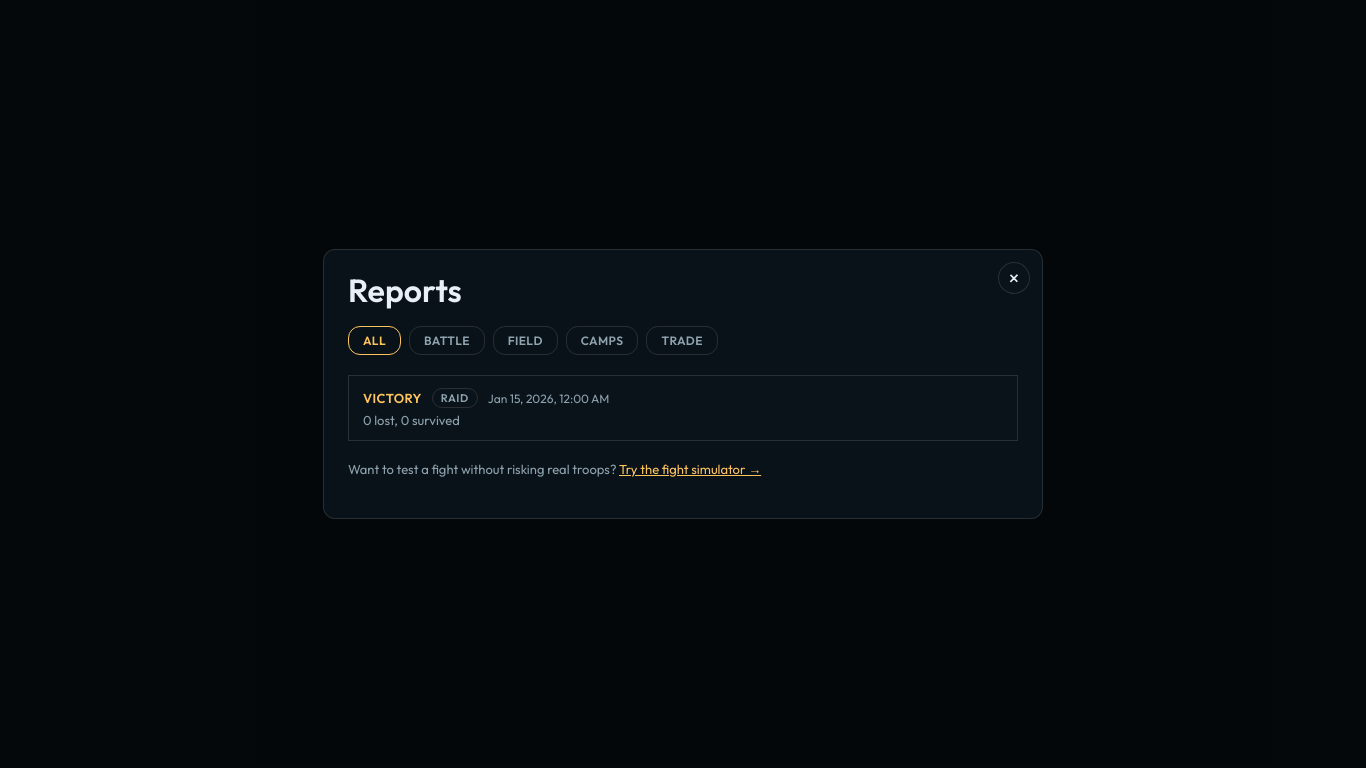
Test: ReportsModal › clicking a row navigates to the detail, keeping the stashed backgroundView
Step 1. Click the button with test id "report-row" → (392, 398), box x1=348 y1=375 x2=1018 y2=441
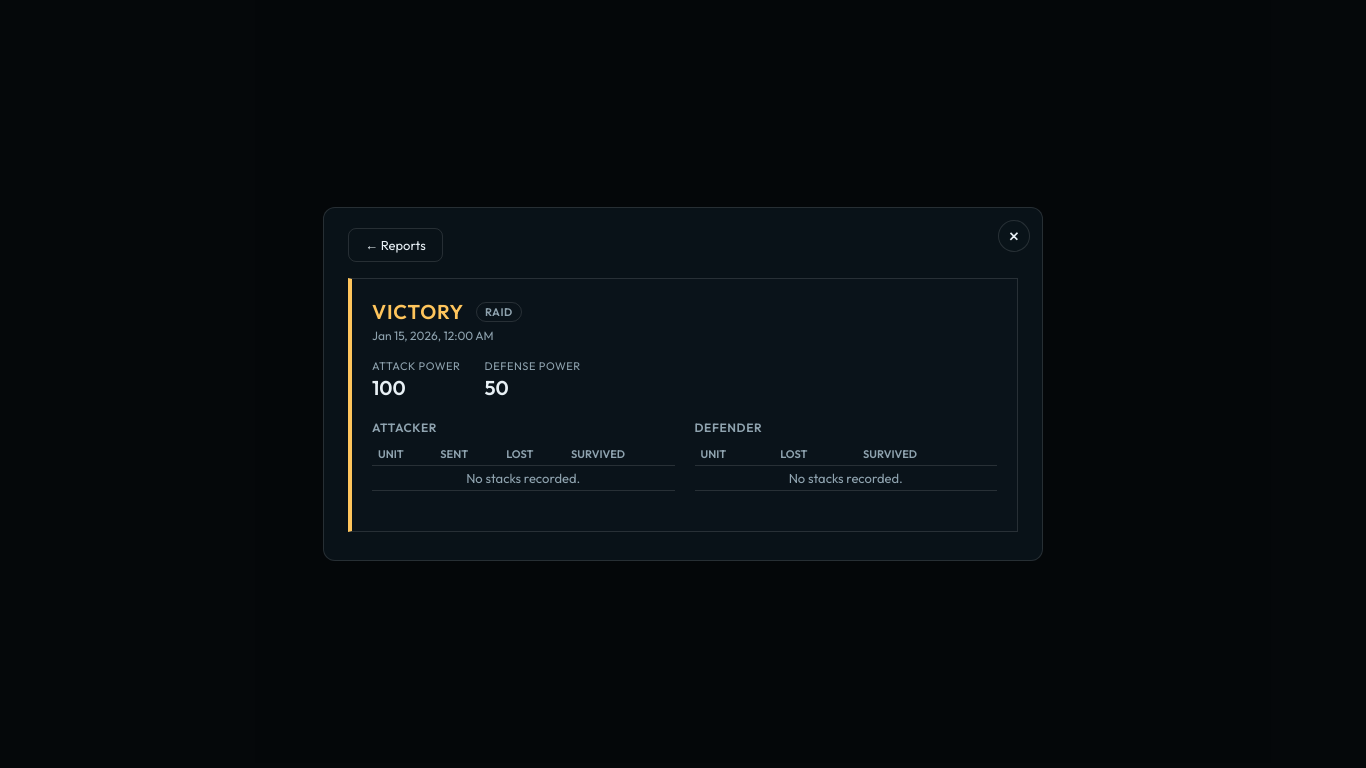
Now the element with test id "report-detail" is shown, box x1=348 y1=278 x2=1018 y2=532
